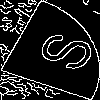S: (25, 24, 98, 75)
